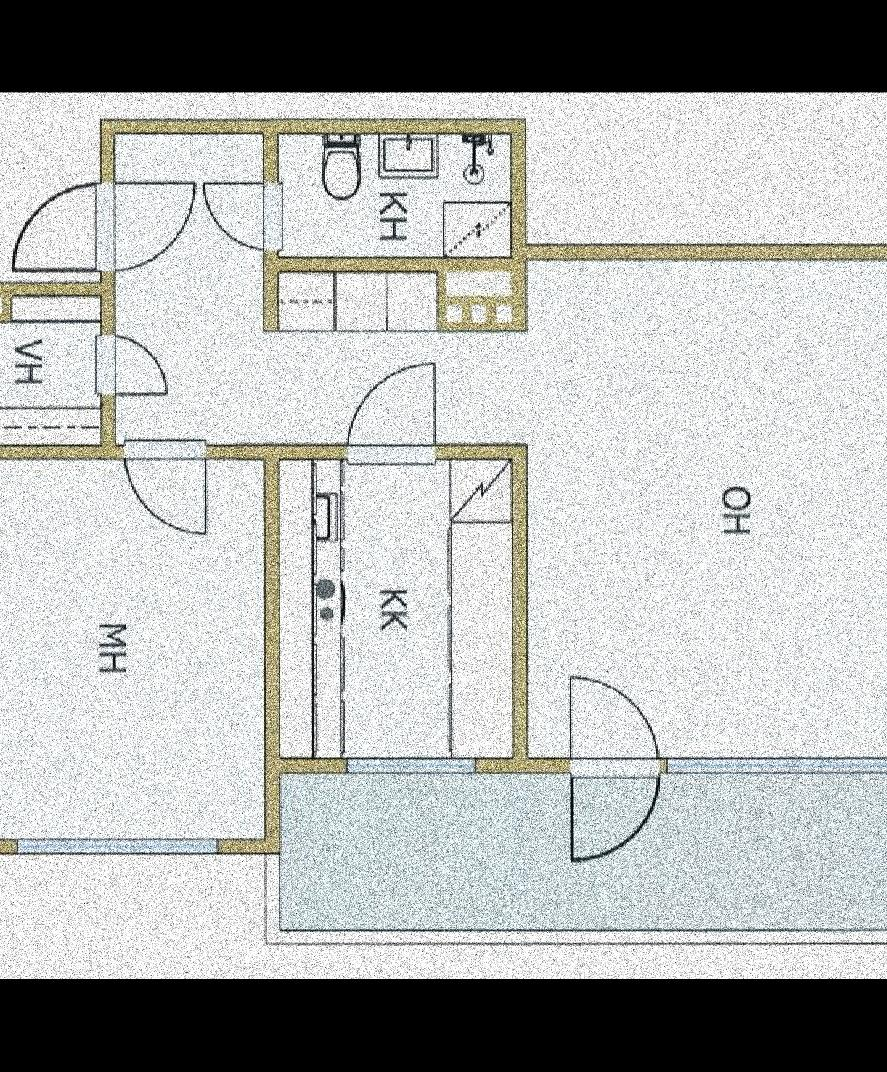door: (552, 678, 664, 866), (4, 178, 196, 279), (342, 360, 438, 472), (124, 440, 208, 546), (198, 180, 285, 253), (90, 338, 172, 400)
window: (10, 838, 218, 858), (657, 759, 887, 777), (340, 756, 476, 775)
zone: (528, 258, 887, 759), (118, 134, 528, 448), (0, 459, 264, 839), (282, 768, 887, 927), (282, 455, 508, 756), (278, 136, 512, 256), (0, 301, 101, 440)
